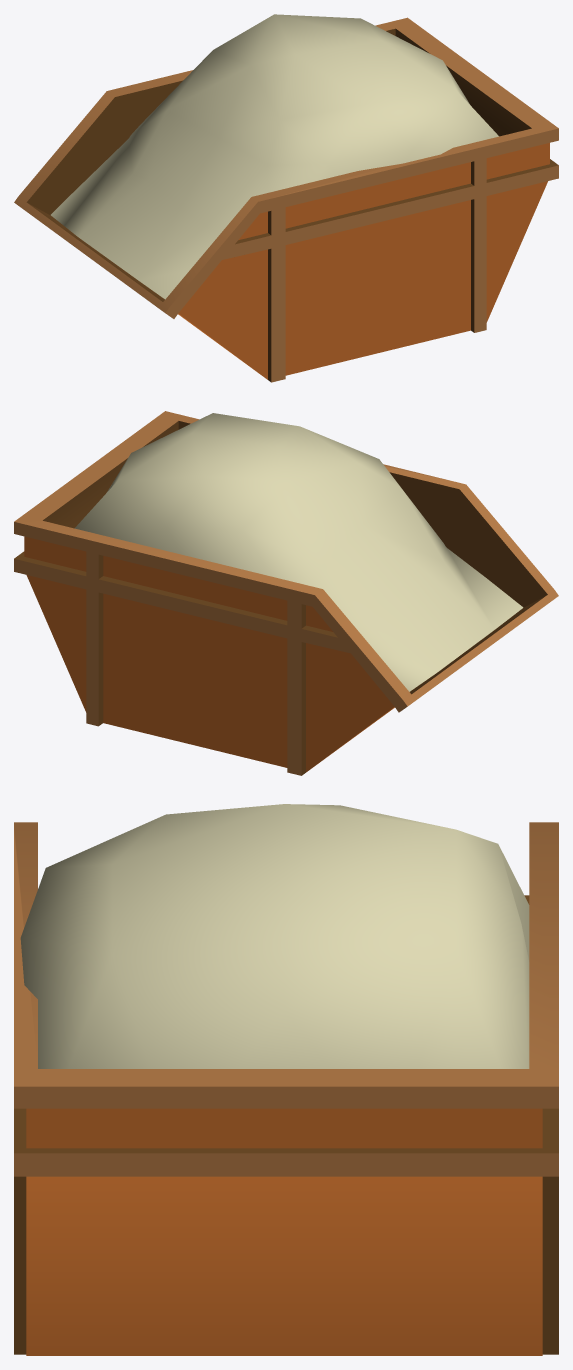
Rendered from MESH_PROP_CacambaAreia.fbx.
The picture shows the model from 3 angles, top to bottom: view 1: azimuth 30°, elevation 25°; view 2: azimuth 150°, elevation 25°; view 3: azimuth 270°, elevation 25°; orthographic projection. The views are drawn at different scales.
Parts seen in each view (by area): view 1: cacaba_areia; view 2: cacaba_areia; view 3: cacaba_areia.
Part boxes in pixels (x1=…): cacaba_areia: x1=14, y1=14, x2=558, y2=382; cacaba_areia: x1=14, y1=411, x2=558, y2=775; cacaba_areia: x1=14, y1=804, x2=558, y2=1355.
Size of the model in its own units: 314 by 190 by 209.
